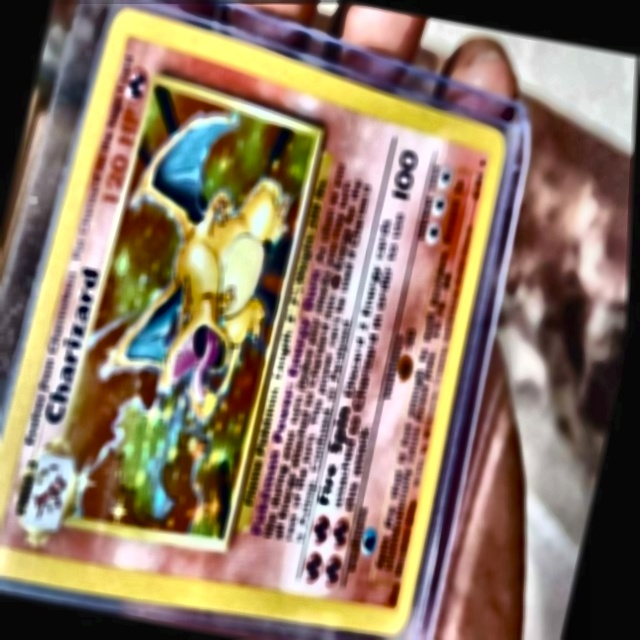card: (0, 7, 505, 634)
